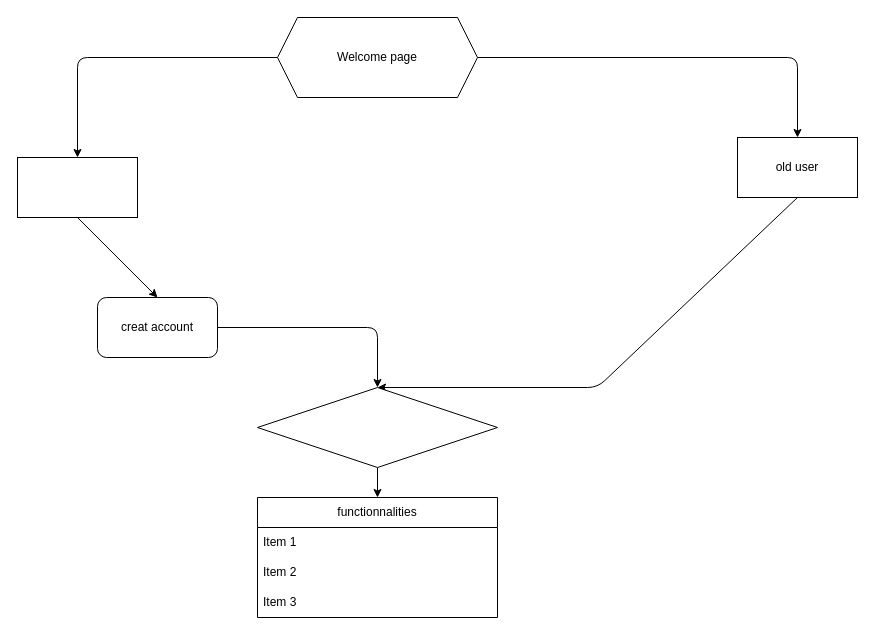
Image size: 875x635. Some labels were removed from this diagram. Here are the shapes that lost their labels. From the top down, the centre of each, then its label:
At pixel 77 187: "new user".
At pixel 377 427: "dashboard".
